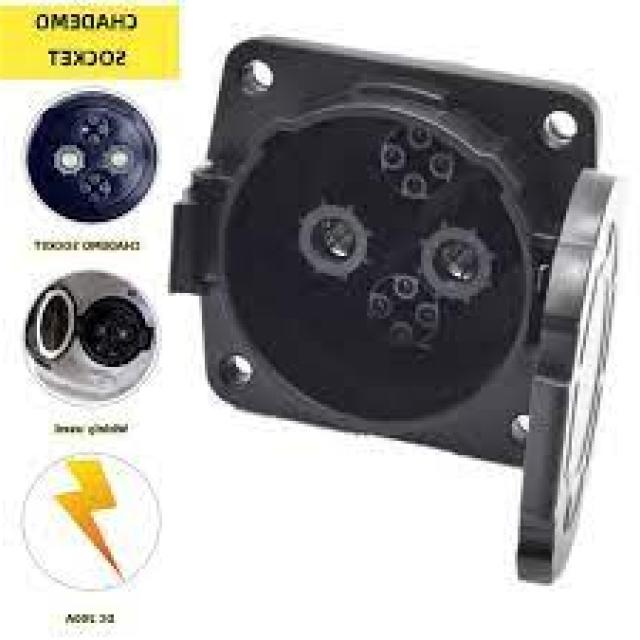CHAdeMO: (214, 102, 570, 427)
